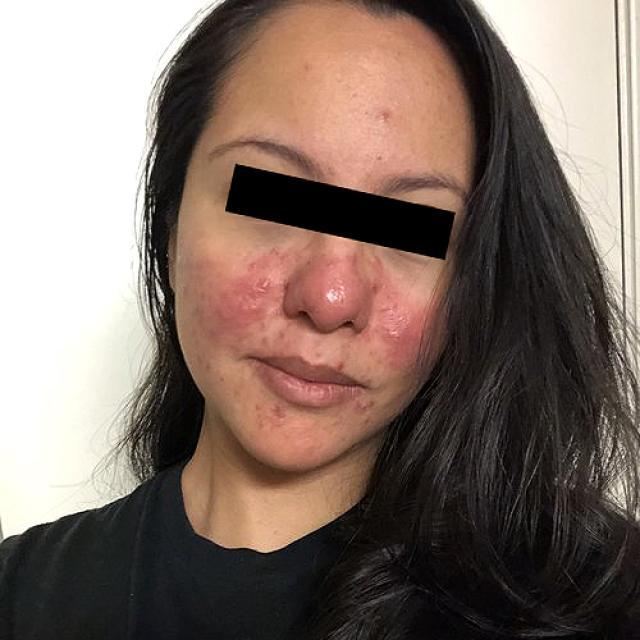Rosacea: (167, 240, 293, 366), (359, 256, 436, 368), (287, 246, 374, 331)
